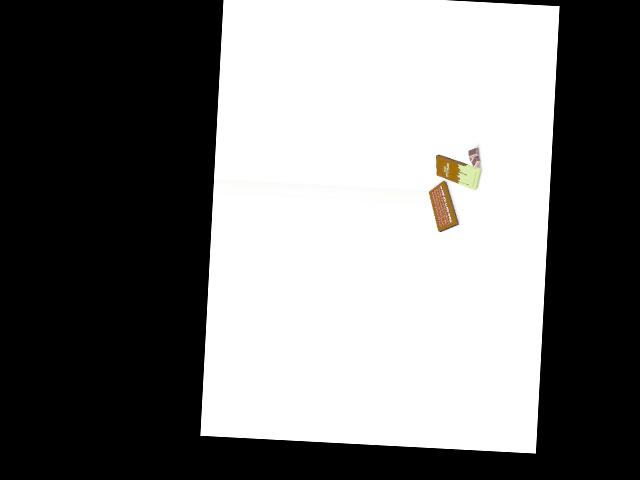chocolate: (433, 157, 484, 188)
